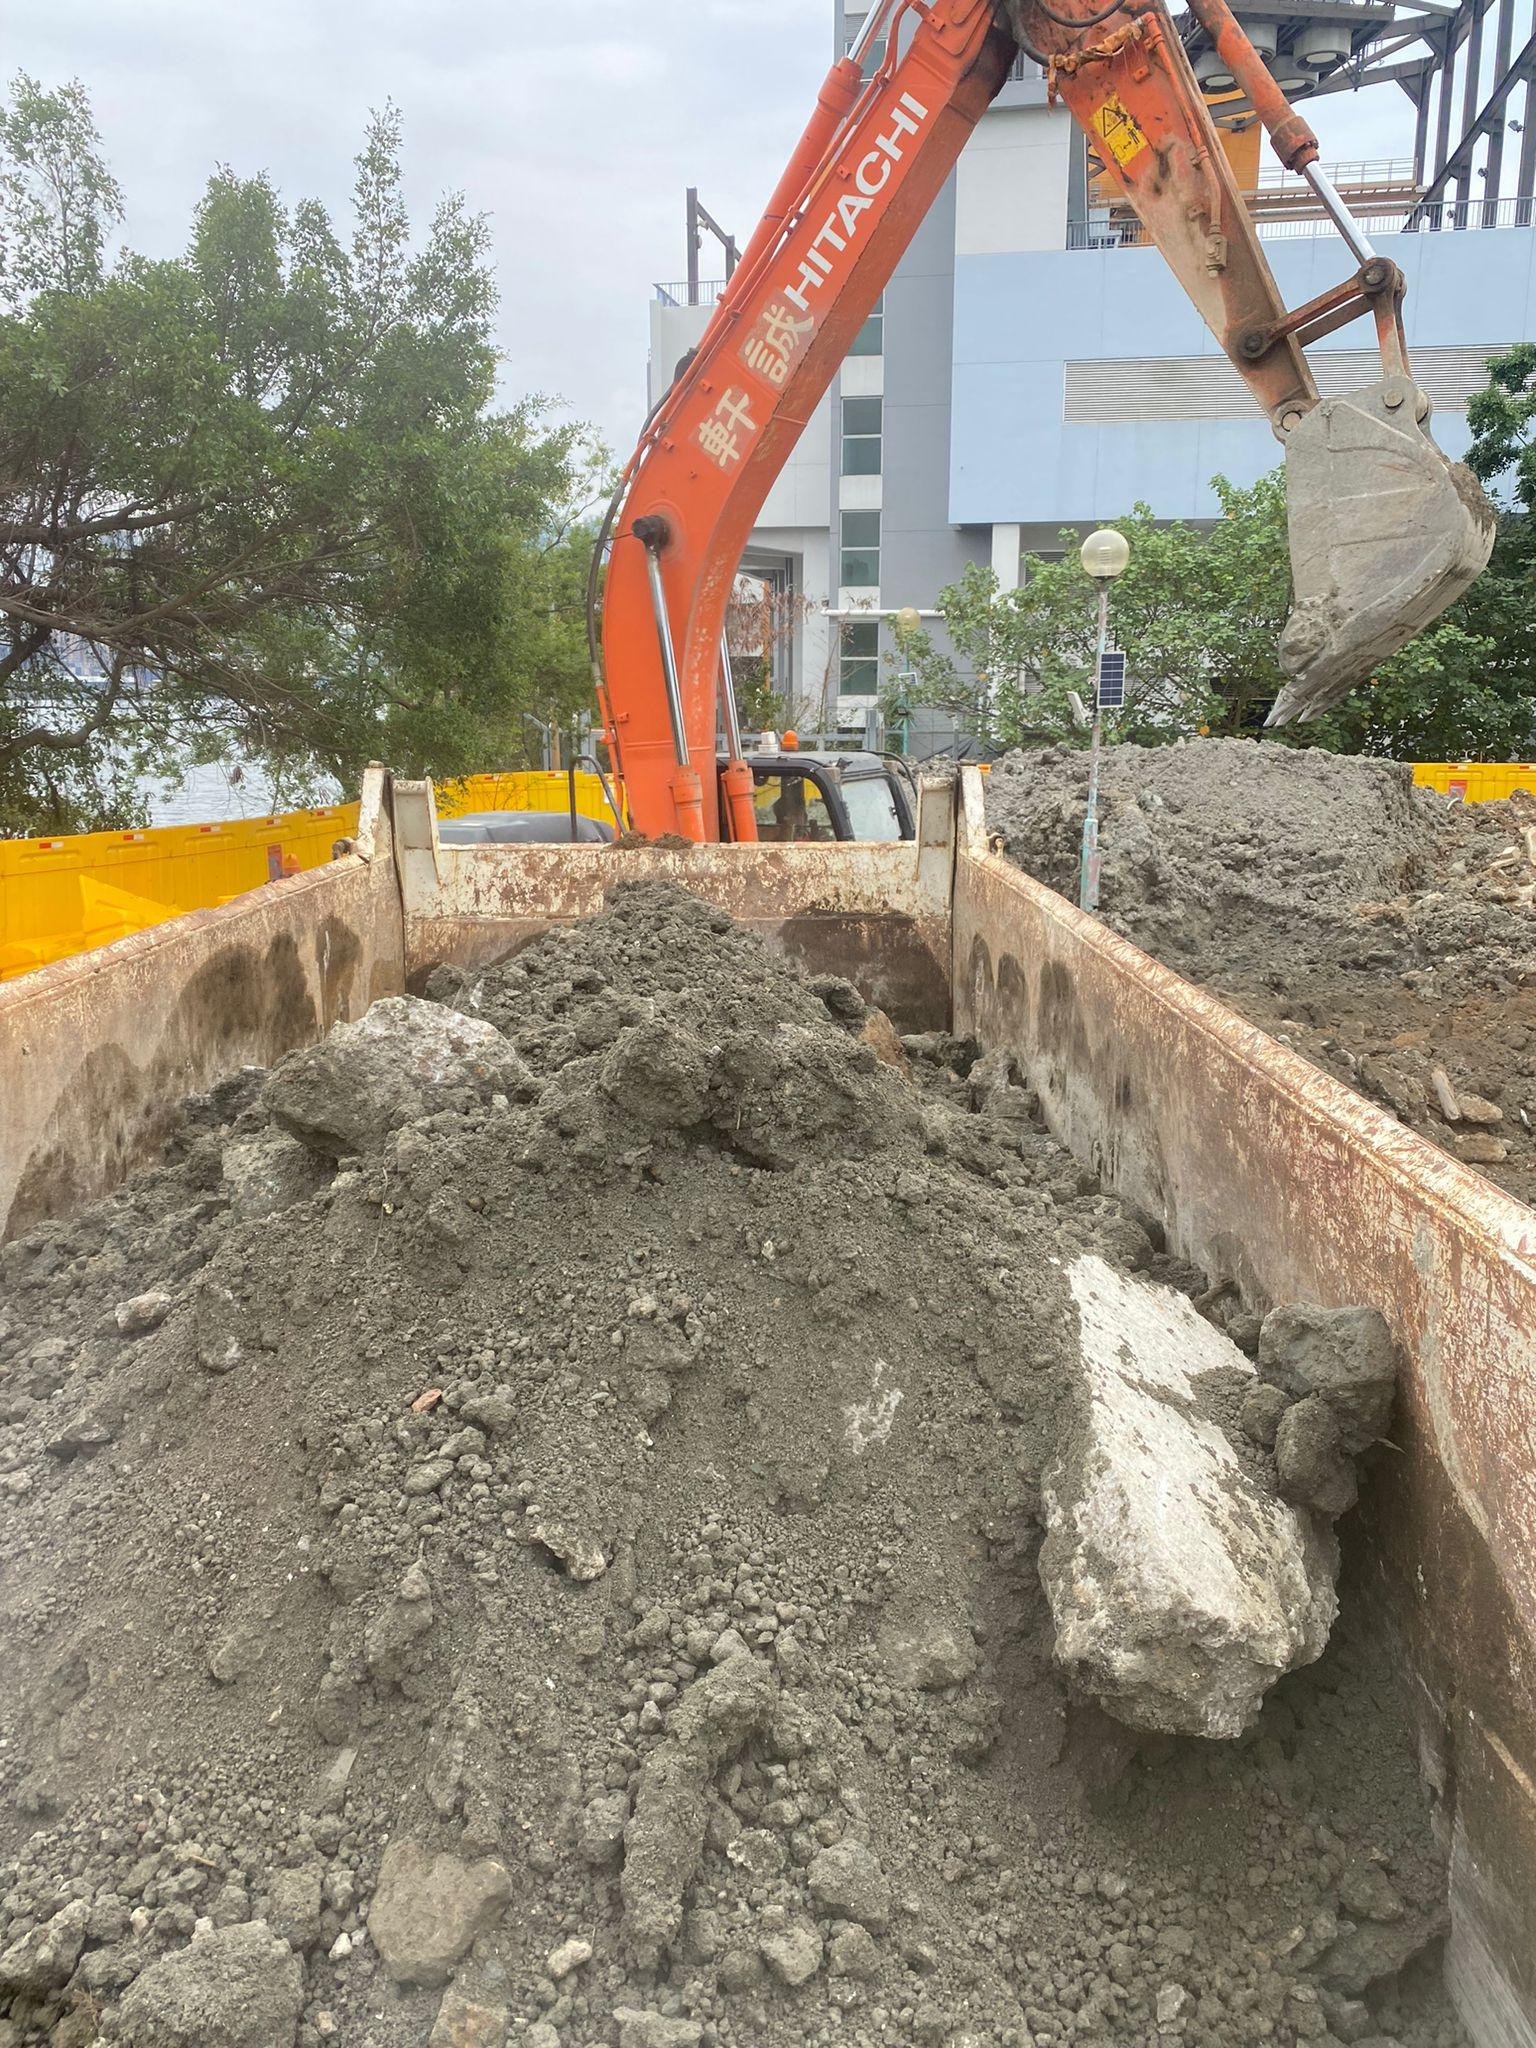dirt: (2, 872, 1467, 2045)
stone: (1033, 1250, 1346, 1742), (257, 989, 541, 1158), (1247, 1298, 1397, 1514), (97, 1917, 303, 2045), (366, 1835, 511, 1985)
